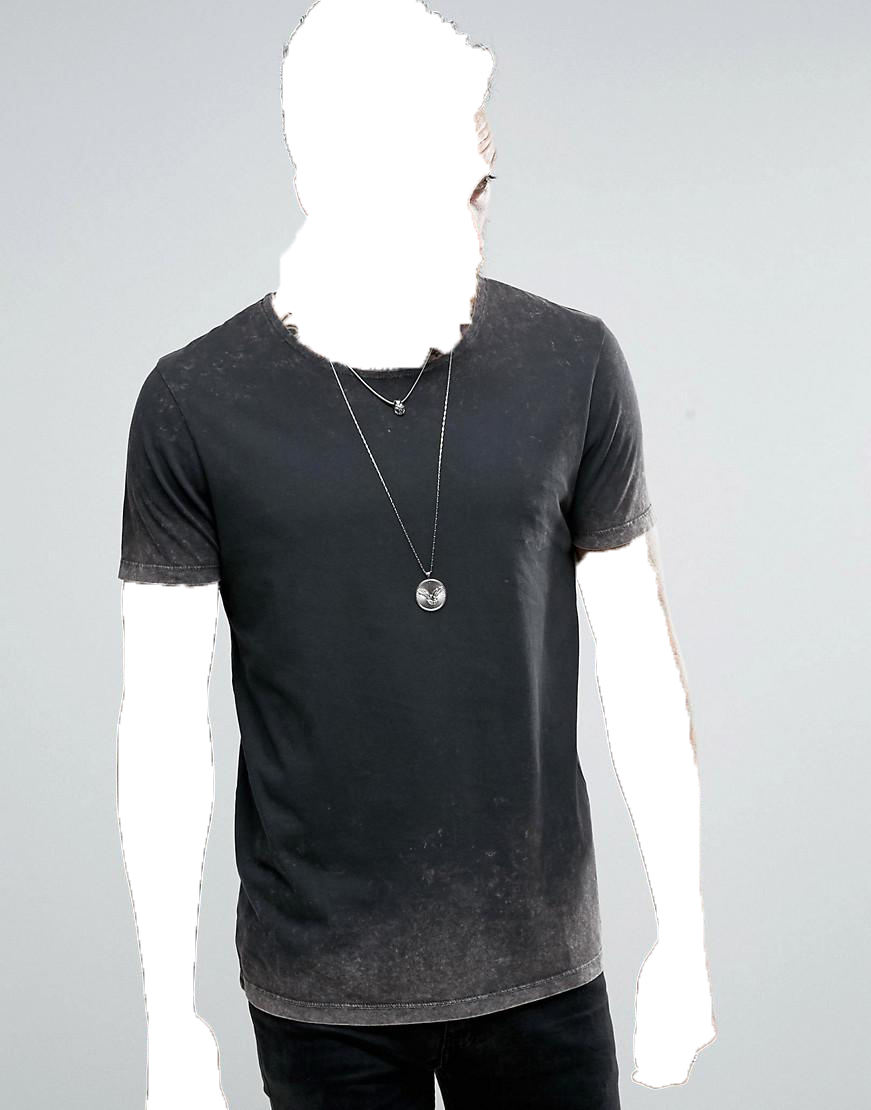teeshirt: (115, 281, 666, 1022)
